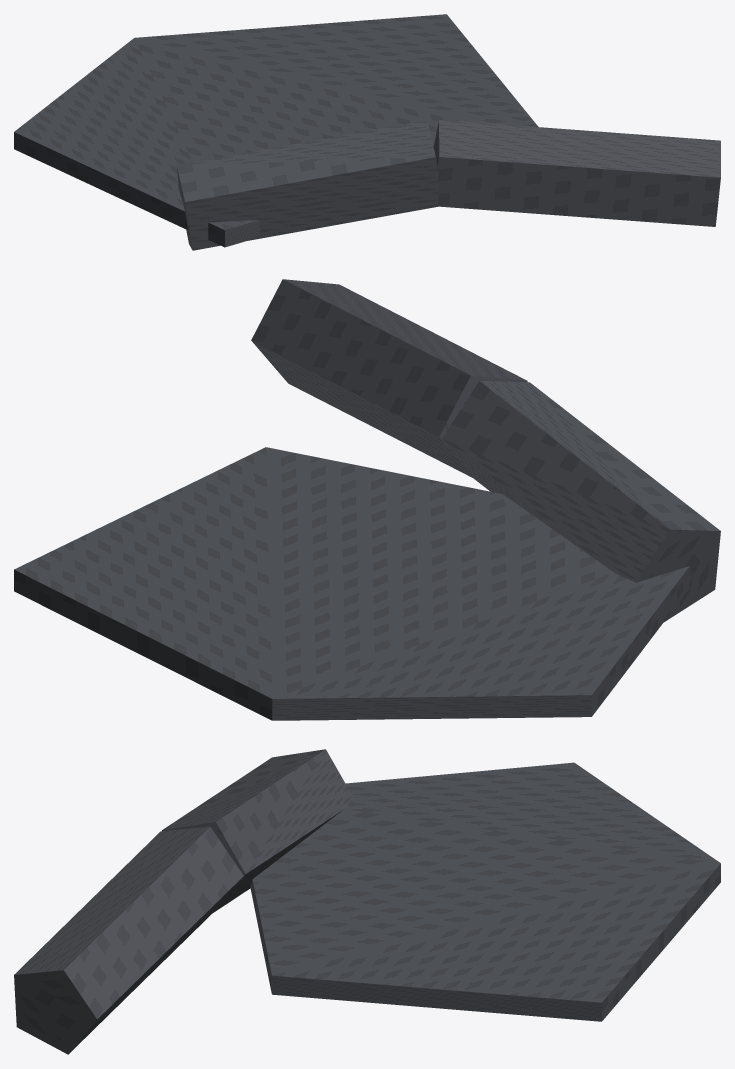
File: long_knit_scarf_headwrap.glb
3 renders of one model, top to bottom at view 1: azimuth 30°, elevation 25°; view 2: azimuth 150°, elevation 25°; view 3: azimuth 270°, elevation 25°, orthographic. The views are drawn at different scales.
Parts seen in each view (by area): view 1: block_triangular wrap, block_tied ends 1, block_tied ends 0; view 2: block_triangular wrap, block_tied ends 0, block_tied ends 1; view 3: block_triangular wrap, block_tied ends 1, block_tied ends 0.
Part boxes in pixels (x1=…): block_triangular wrap: x1=14, y1=14, x2=538, y2=247; block_tied ends 1: x1=433, y1=119, x2=720, y2=226; block_tied ends 0: x1=176, y1=120, x2=438, y2=250; block_triangular wrap: x1=14, y1=447, x2=691, y2=720; block_tied ends 0: x1=442, y1=381, x2=720, y2=621; block_tied ends 1: x1=251, y1=279, x2=527, y2=477; block_triangular wrap: x1=250, y1=762, x2=720, y2=1021; block_tied ends 1: x1=14, y1=826, x2=243, y2=1054; block_tied ends 0: x1=162, y1=749, x2=353, y2=913.
Size of the model in its own units: 0.2493 by 0.0548 by 0.2844.
Materials: 1 (1 with a texture image).
